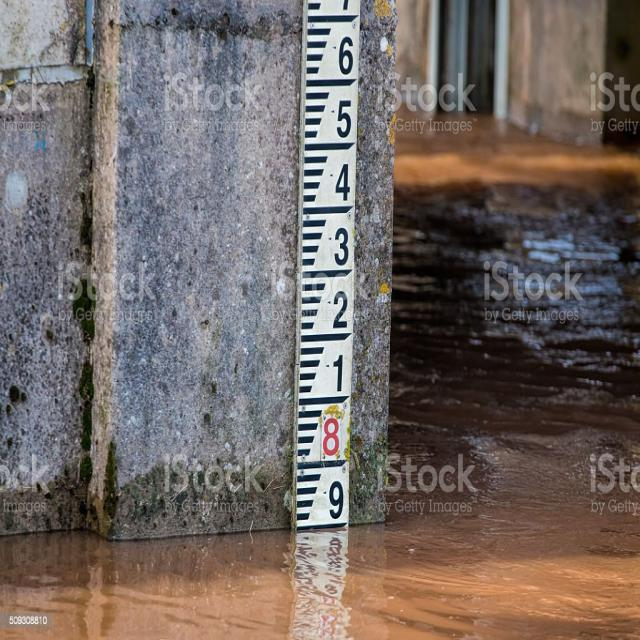ruler: (289, 0, 366, 538)
value: (334, 28, 358, 80), (328, 221, 353, 269), (319, 413, 344, 461), (332, 158, 354, 208), (326, 474, 348, 524), (330, 286, 352, 334), (328, 348, 349, 398), (334, 96, 353, 139)
